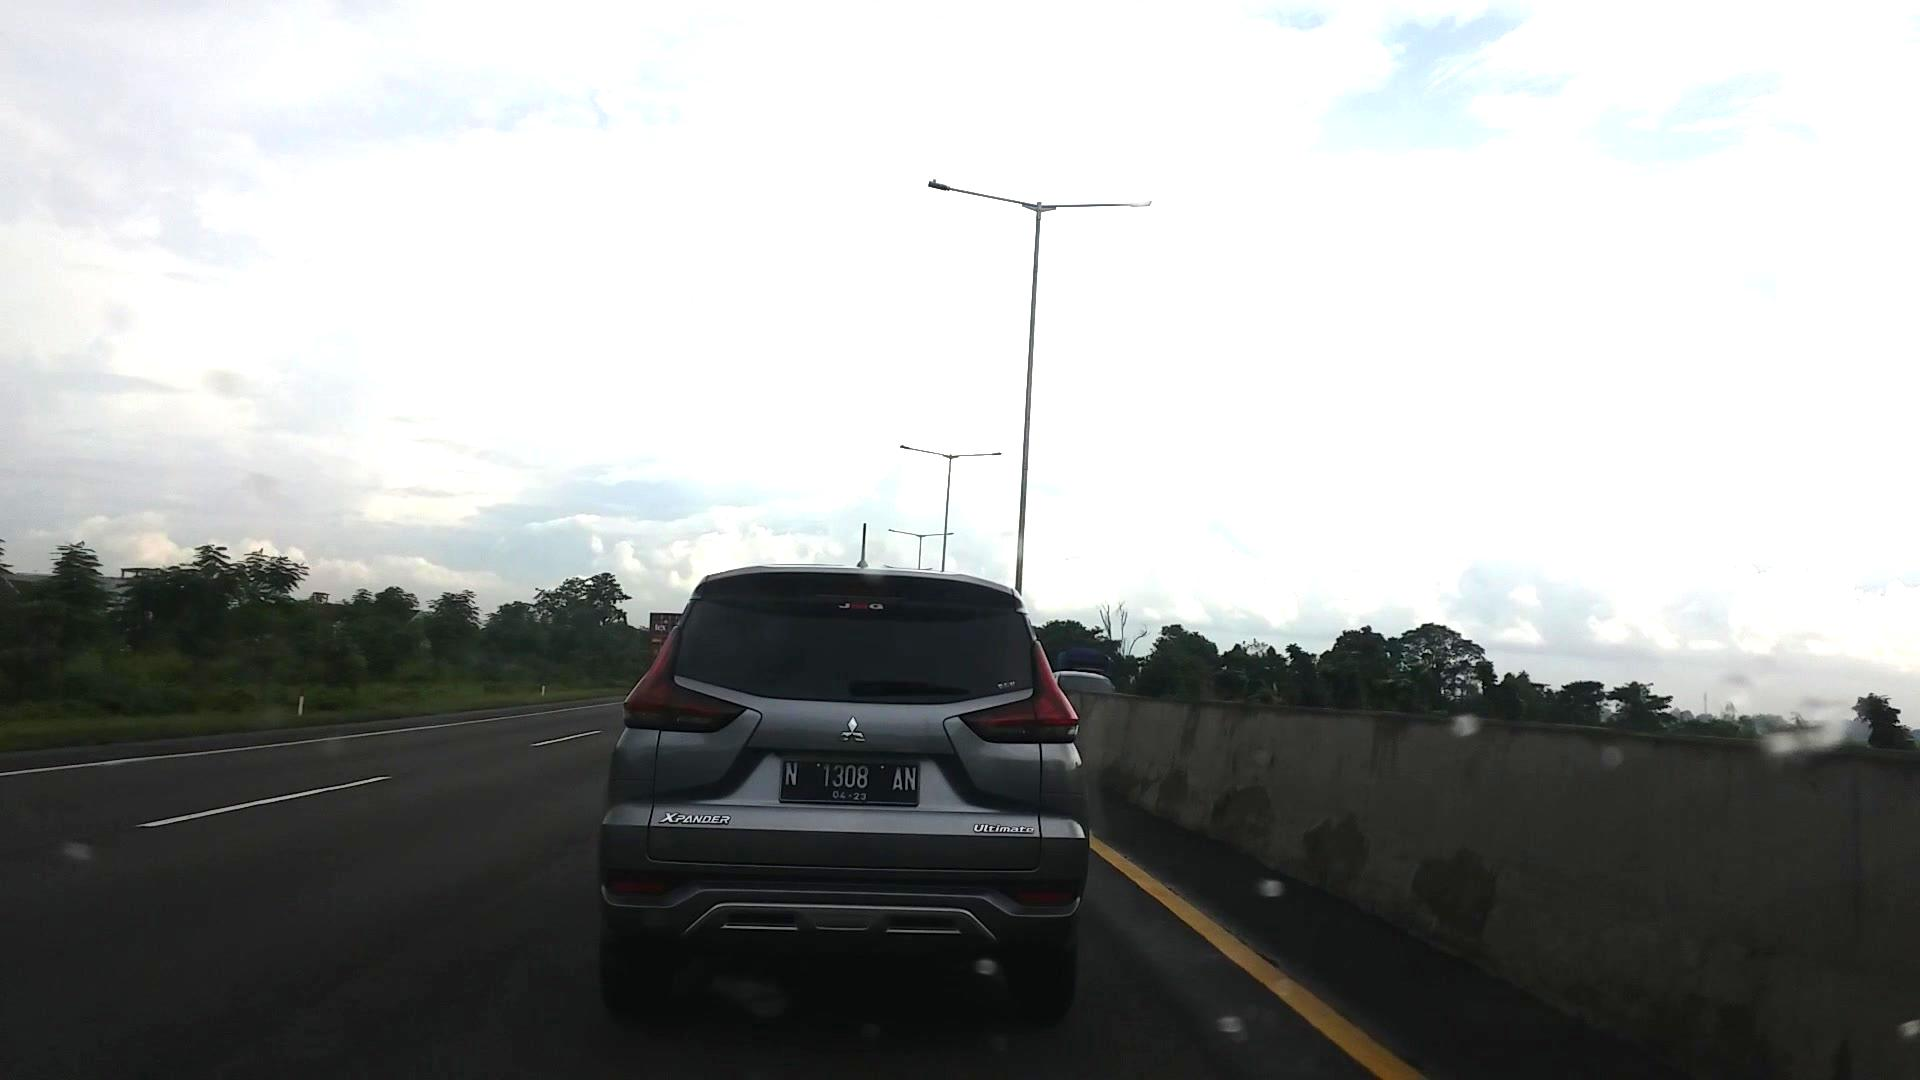plate_positive: (778, 757, 919, 807)
